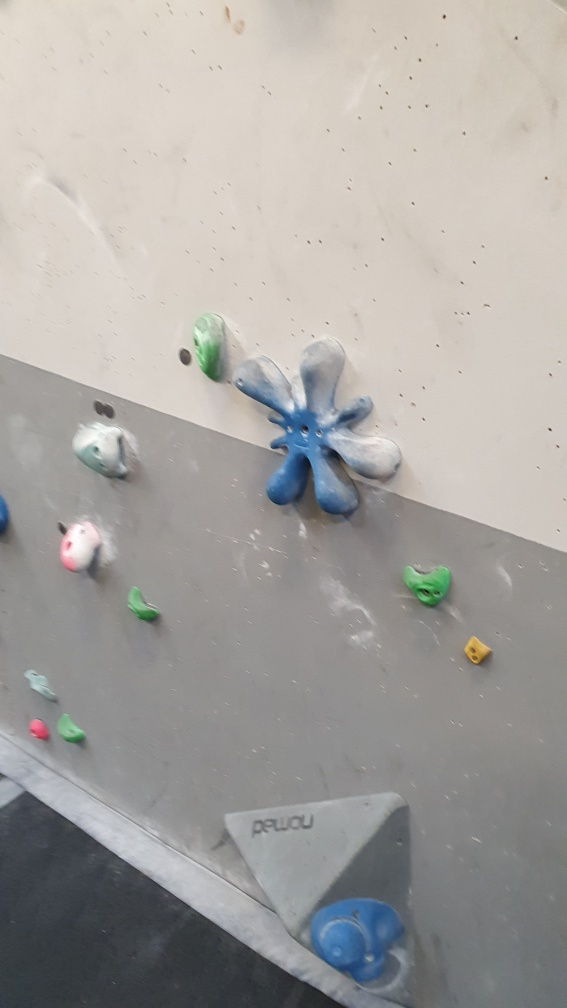Hand Start: (101, 397, 121, 423), (180, 342, 191, 366)
Jug: (397, 556, 455, 616), (92, 416, 131, 489), (189, 309, 229, 380), (59, 518, 105, 571), (125, 585, 159, 624), (57, 716, 83, 748)
Octopus Pinch: (234, 338, 407, 520)
Sloper: (314, 900, 408, 991)
